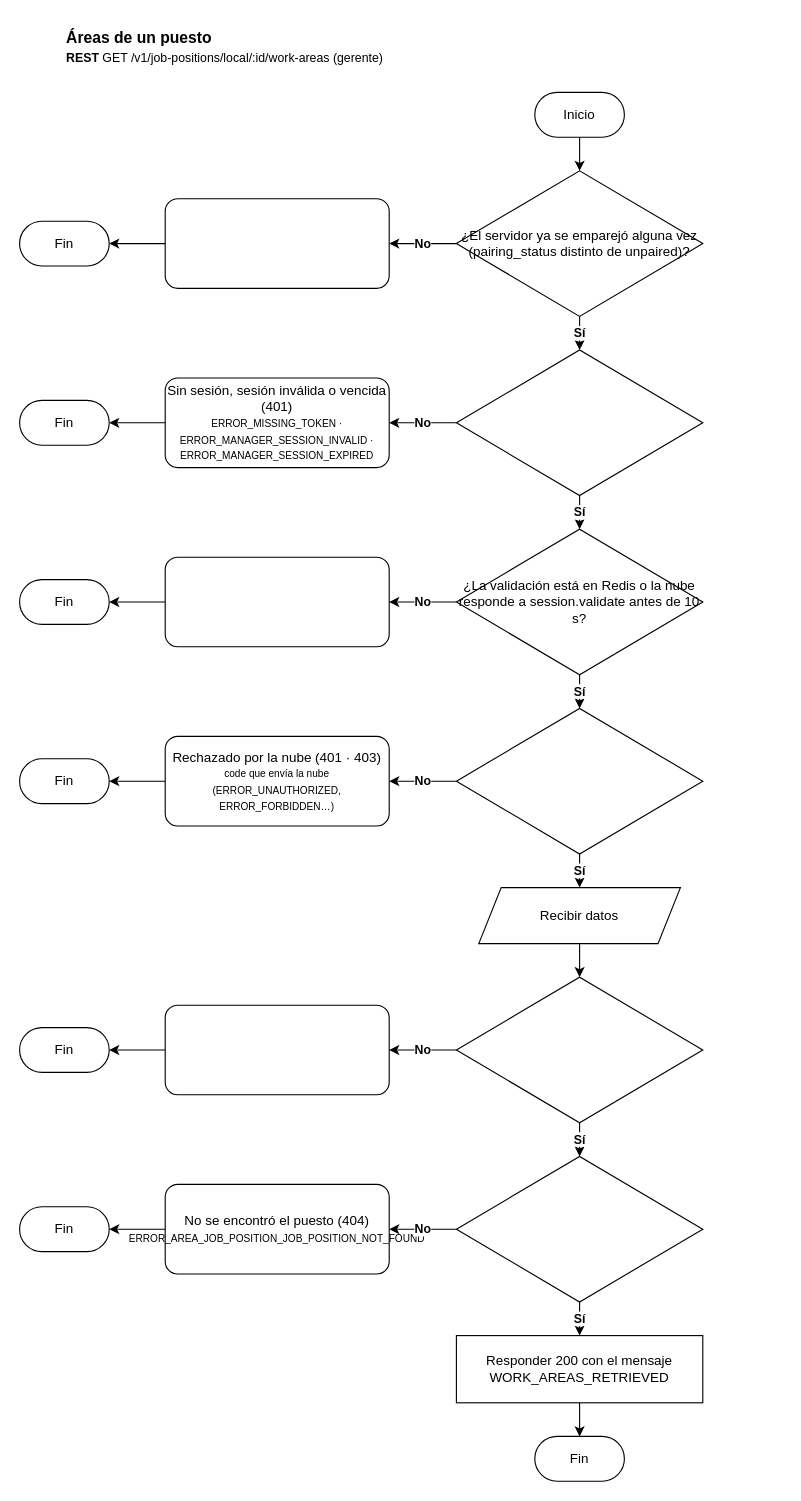
The diagram is 801 pixels wide and 1501 high, and some of its shapes have lost their labels. Each missing label, with the centre of its shape:
Datos inválidos (400) ERROR_BAD_REQUEST: pixel 276 1049
La nube no responde (503) ERROR_CLOUD_UNAVAILABLE · ERROR_SERVER_UNLINKED: pixel 276 601
Servidor sin emparejar (409) ERROR_SERVER_NOT_PAIRED: pixel 276 243
¿Existe el puesto?: pixel 579 1228
¿La nube acepta la sesión del gerente con este servidor?: pixel 579 780
¿Los datos son válidos?: pixel 579 1049
¿Trae una sesión de gerente válida (Bearer mss_..., sin 30 min de inactividad)?: pixel 579 422
